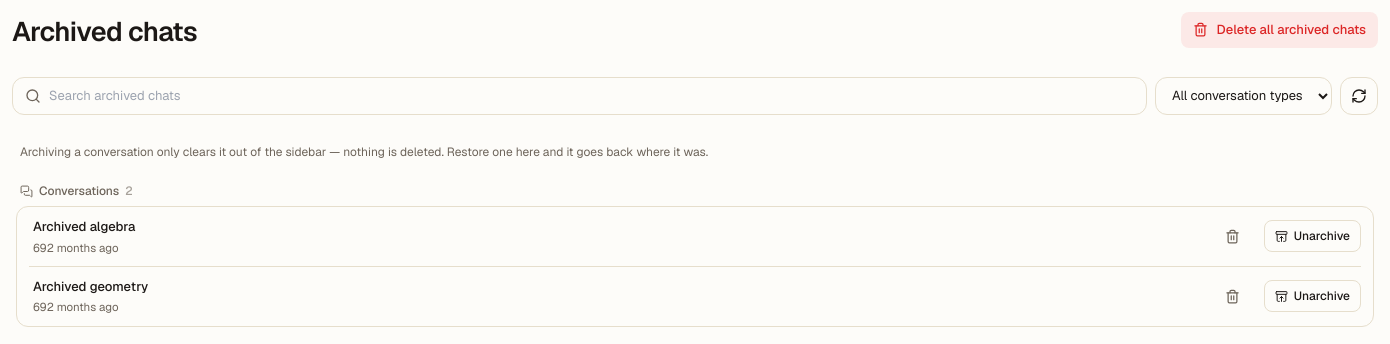
Scenario: keeps failed deletions visible and reports partial failure
The width and height of the screenshot is (1390, 344).
Expected: the text "Archived algebra" is shown, [33,218,135,235]
What coordinates should you click on to do the following:
click the button "Delete all archived chats"
I would click on:
 (1280, 30)
Its box is [1182,12,1378,48].
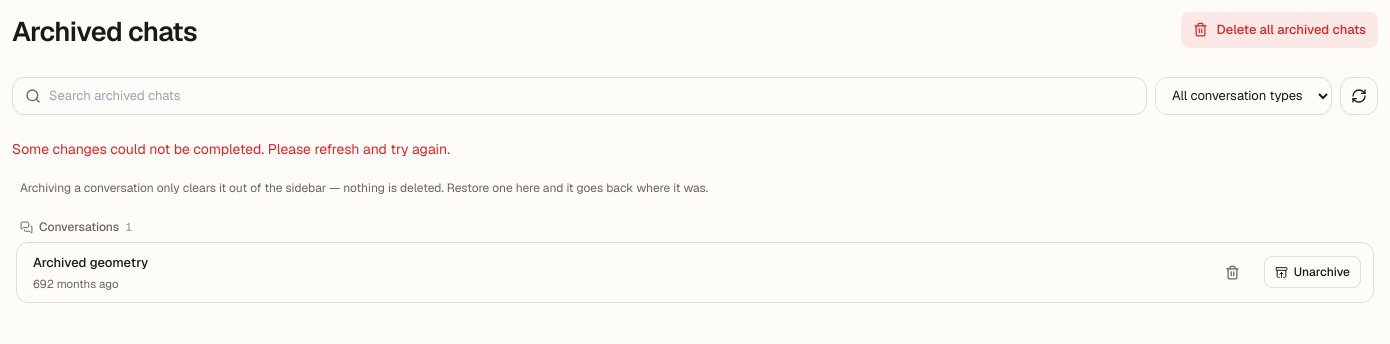
Expected: the text "Archived geometry" is shown, [33,254,148,271]
Now the message "Some changes could not be completed. Please refresh and try again." is shown, box [12,140,450,158]
Now the button "Archived algebra" is gone
